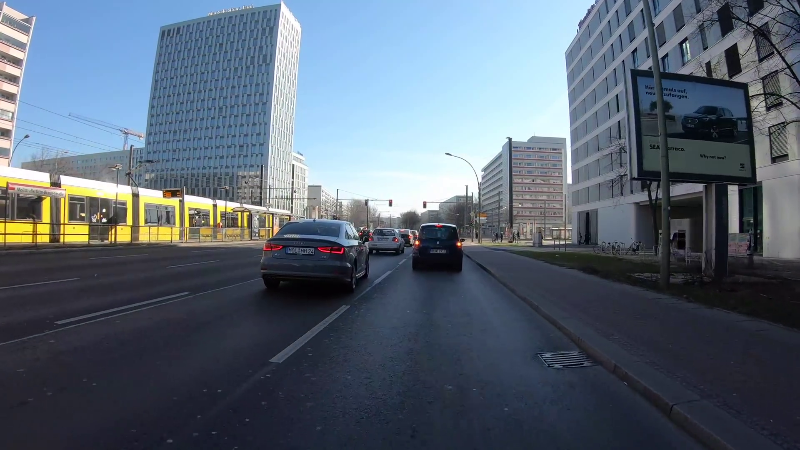Plate: (283, 244, 315, 256), (427, 247, 447, 254), (375, 236, 389, 243)
